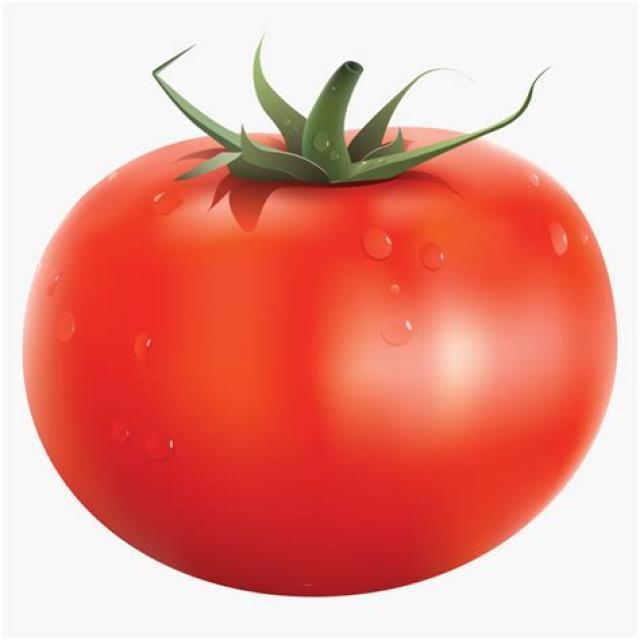Tomato: (20, 139, 618, 601)
